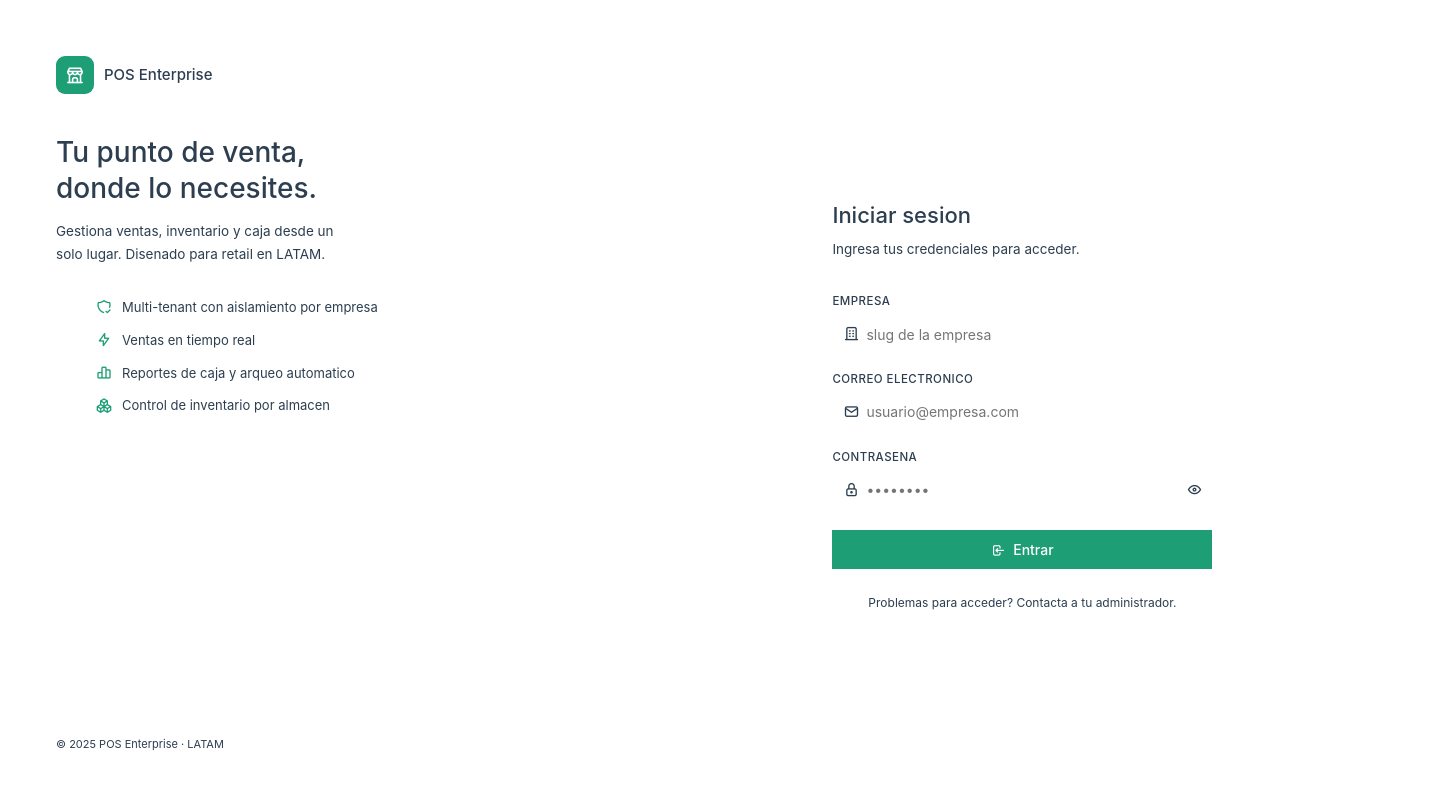
LoginView › muestra un mensaje generico ante un error sin estructura
In the field with id "lv-tenant": (1022, 334) [832, 316, 1212, 352], type "demo"
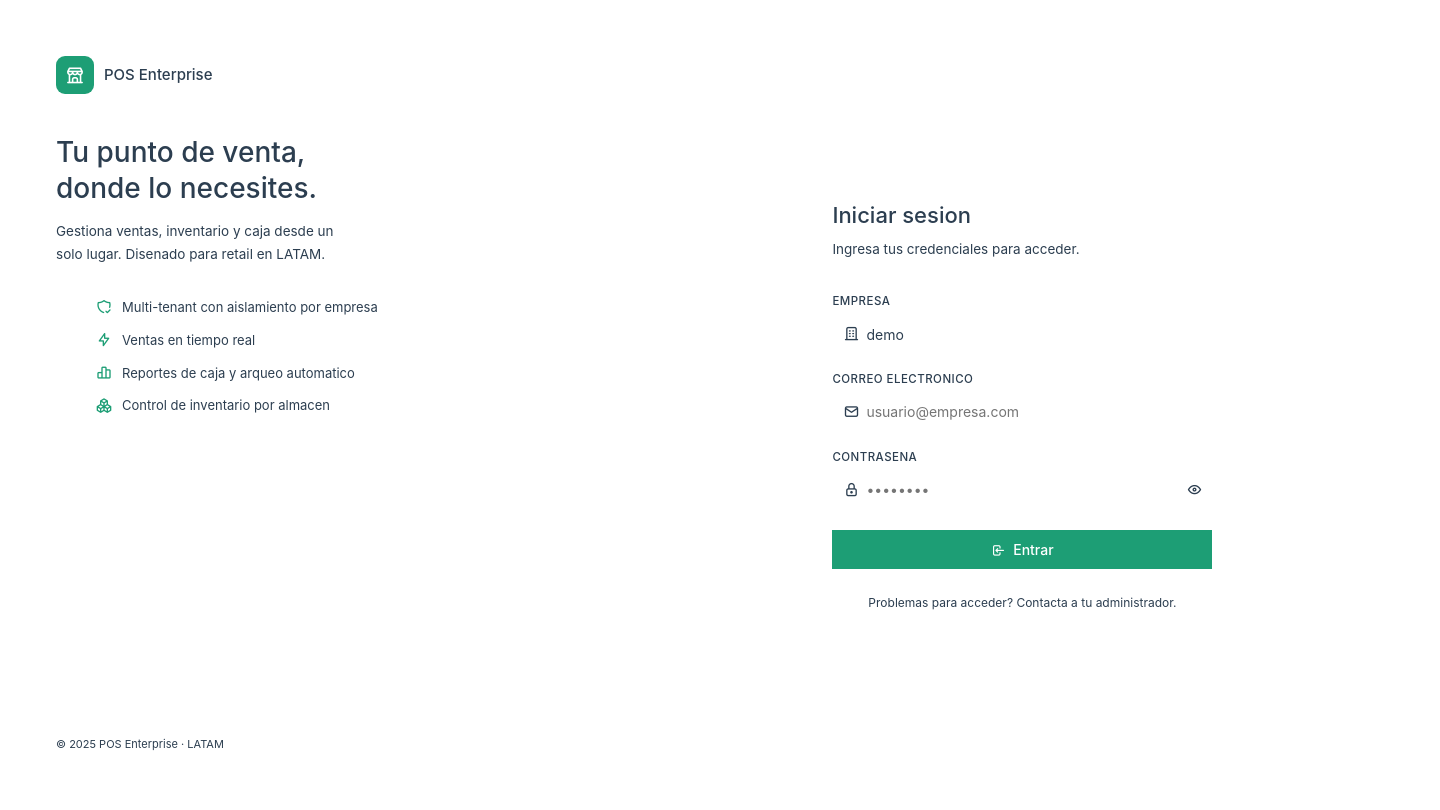
In the field with id "lv-email": (1022, 412) [832, 394, 1212, 430], type "admin@demo.local"
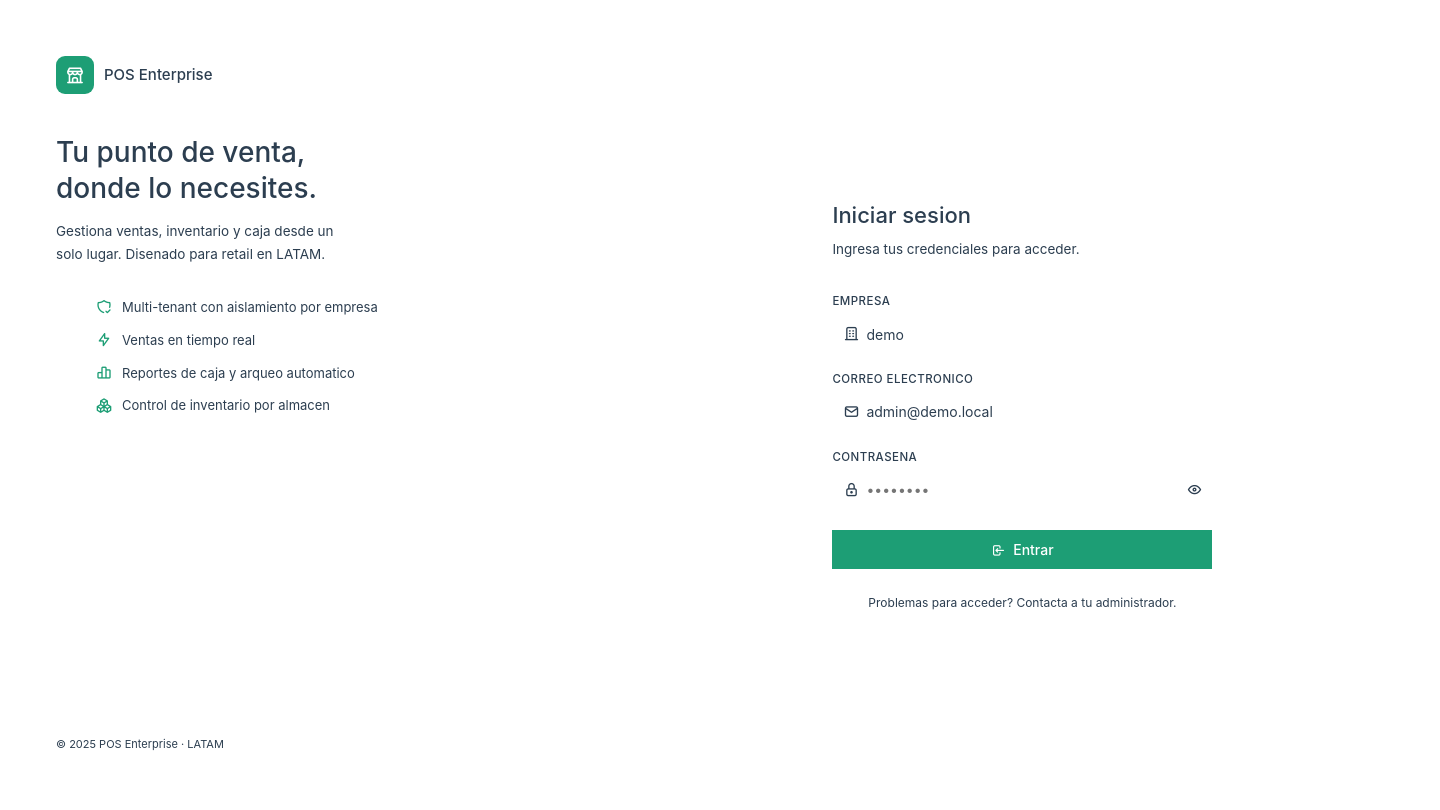
In the password field with id "lv-password": (1022, 490) [832, 472, 1212, 508], type "password123"
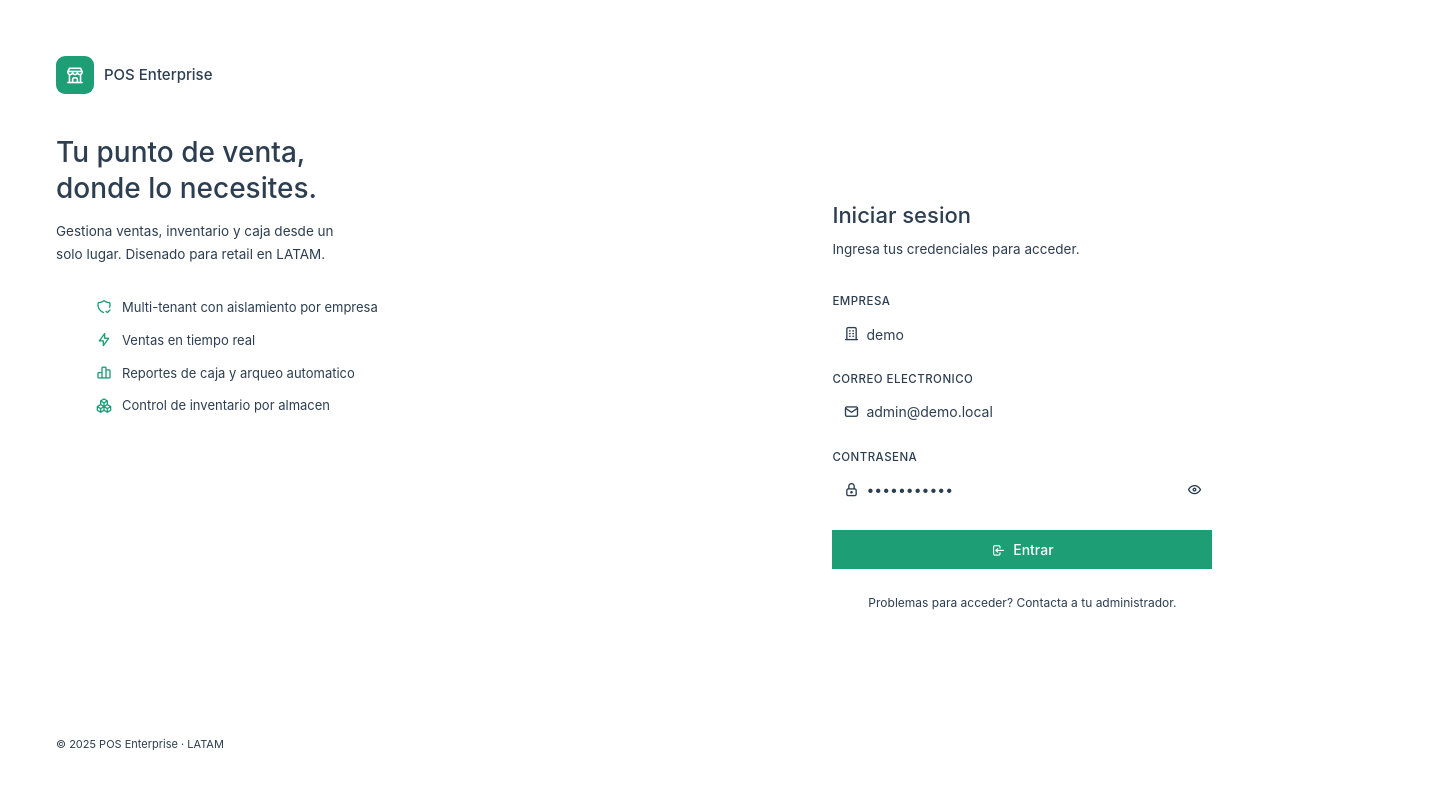
Submit the form with class "lv-form", box [832, 292, 1212, 569]
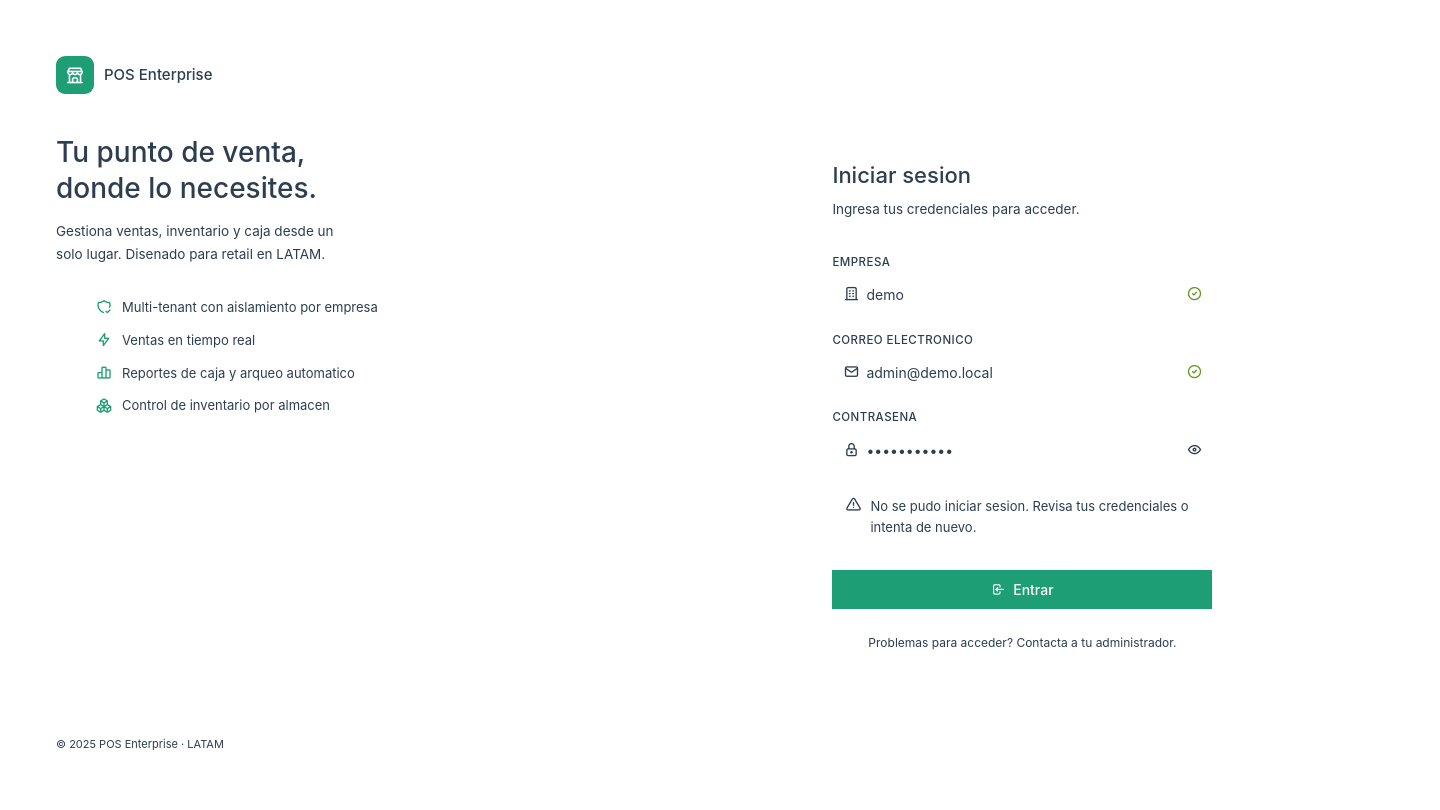
Now the message with class "lv-error-banner" shows "No se pudo iniciar sesion", box [870, 498, 1189, 535]
